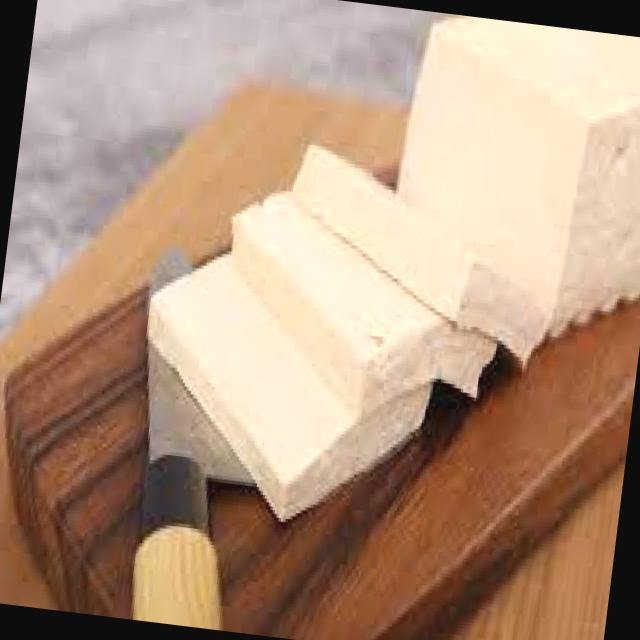tofu: (103, 114, 574, 578), (312, 2, 640, 412)
